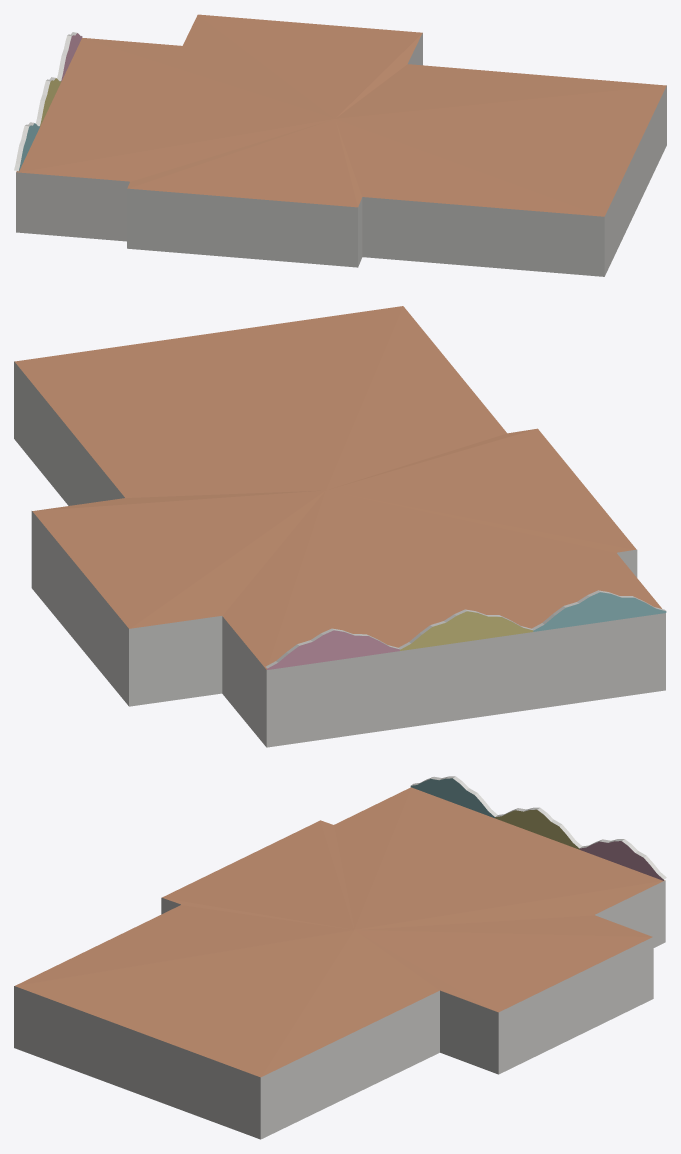
File: cruise.glb
3 views of the same model, one above another, from view 1: azimuth 30°, elevation 25°; view 2: azimuth 150°, elevation 25°; view 3: azimuth 270°, elevation 25° (orthographic). The views are drawn at different scales.
Parts seen in each view (by area): view 1: cruise_lod0; view 2: cruise_lod0; view 3: cruise_lod0.
Boxes of the visible parts, x1,y1,x2,y2 form: cruise_lod0: (14,14,666,276); cruise_lod0: (14,306,666,747); cruise_lod0: (14,776,666,1139).
Size of what is drawn, in the model's own units: 62.44 by 8.68 by 59.01.
